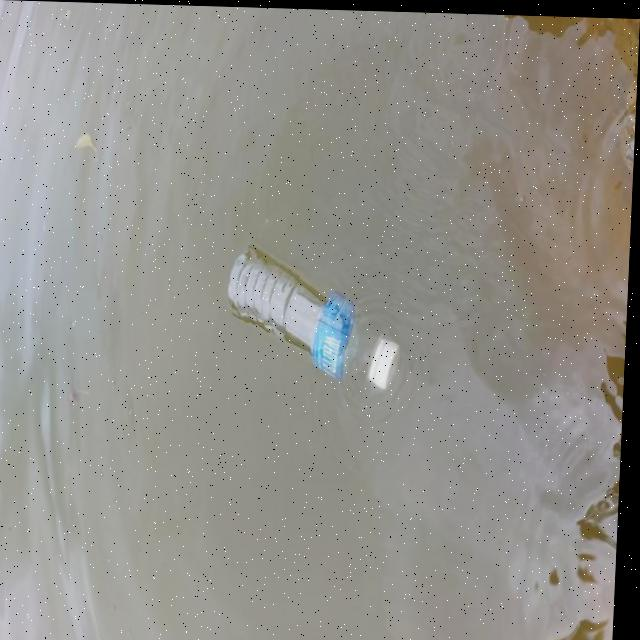waterbottle: (222, 239, 413, 403)
